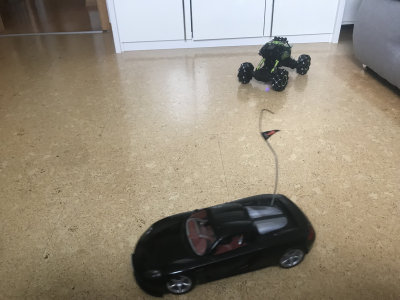remote control car: (232, 31, 313, 93)
